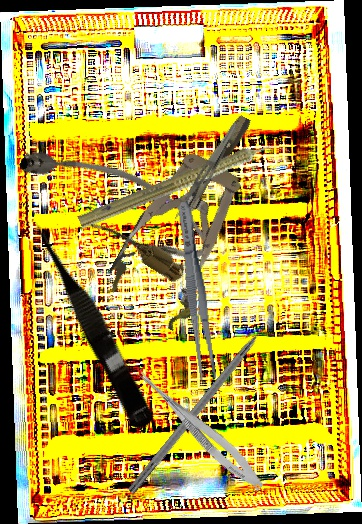Cannula: (10, 117, 220, 288)
Dressing Forceps: (172, 200, 220, 381), (172, 115, 239, 227)
Handpiece: (75, 129, 292, 238)
Hook Surgical: (127, 310, 281, 497)
Micro Scissor: (24, 211, 162, 434), (126, 362, 270, 496)
Speculum: (98, 95, 288, 336)
